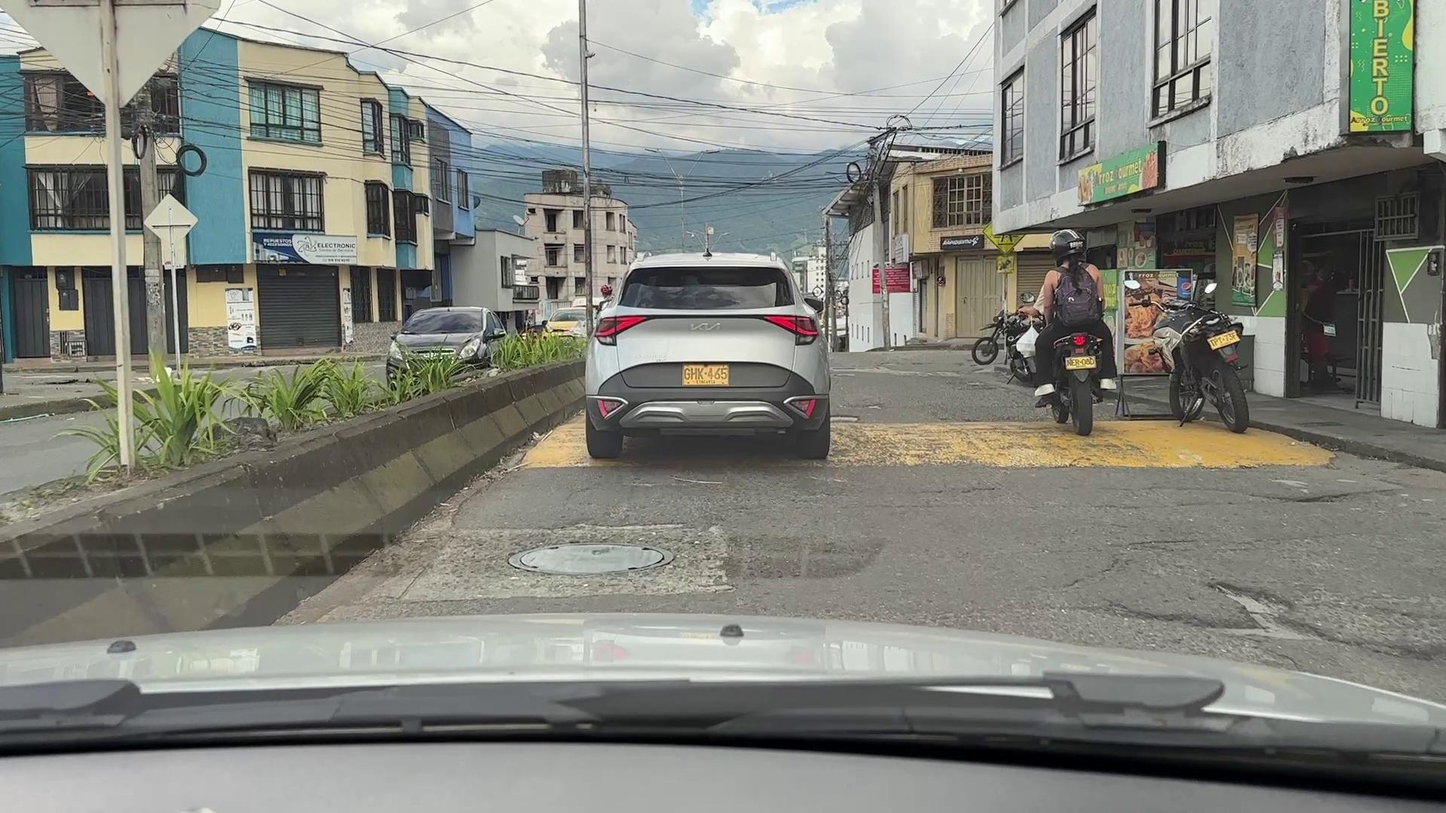bache: (1127, 582, 1354, 646), (1264, 494, 1351, 502), (830, 415, 859, 422), (865, 404, 881, 410)
grieta: (1128, 539, 1196, 550)
registro: (508, 543, 675, 575)
